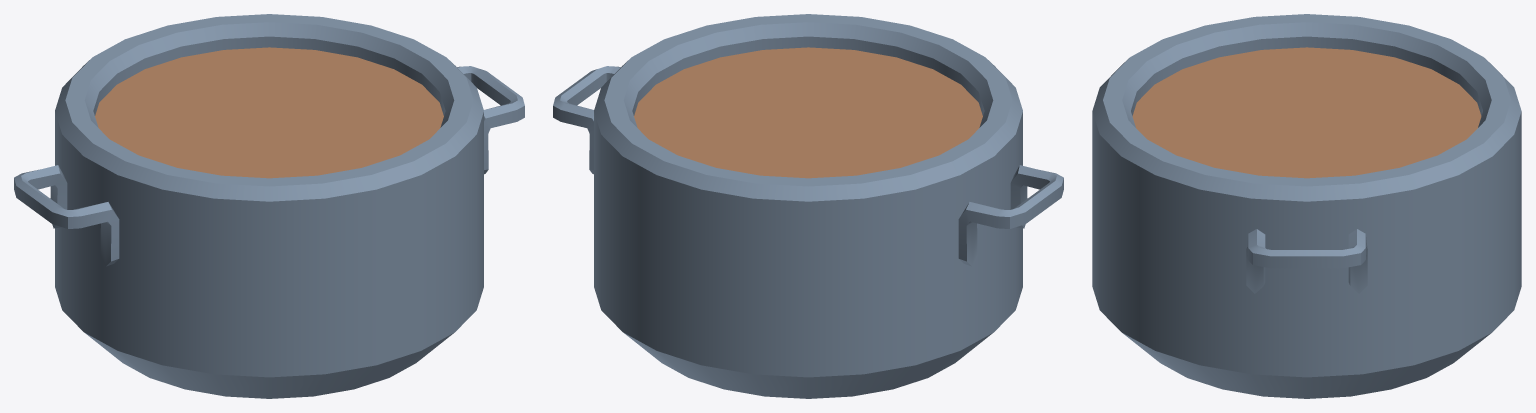
The model's file is pot_1_filled.glb.
3 views of the same model, side by side, from view 1: azimuth 30°, elevation 25°; view 2: azimuth 150°, elevation 25°; view 3: azimuth 270°, elevation 25° (orthographic).
Parts seen in each view (by area): view 1: Environment_Pot_1_Filled; view 2: Environment_Pot_1_Filled; view 3: Environment_Pot_1_Filled.
Part boxes in pixels (box(x1,y1,x2,y2)): Environment_Pot_1_Filled: box(14, 14, 524, 398); Environment_Pot_1_Filled: box(553, 14, 1063, 398); Environment_Pot_1_Filled: box(1092, 14, 1521, 398).
Size of the model in its own units: 1.58 by 0.731 by 1.25.
Materials: 1 (1 with a texture image).
